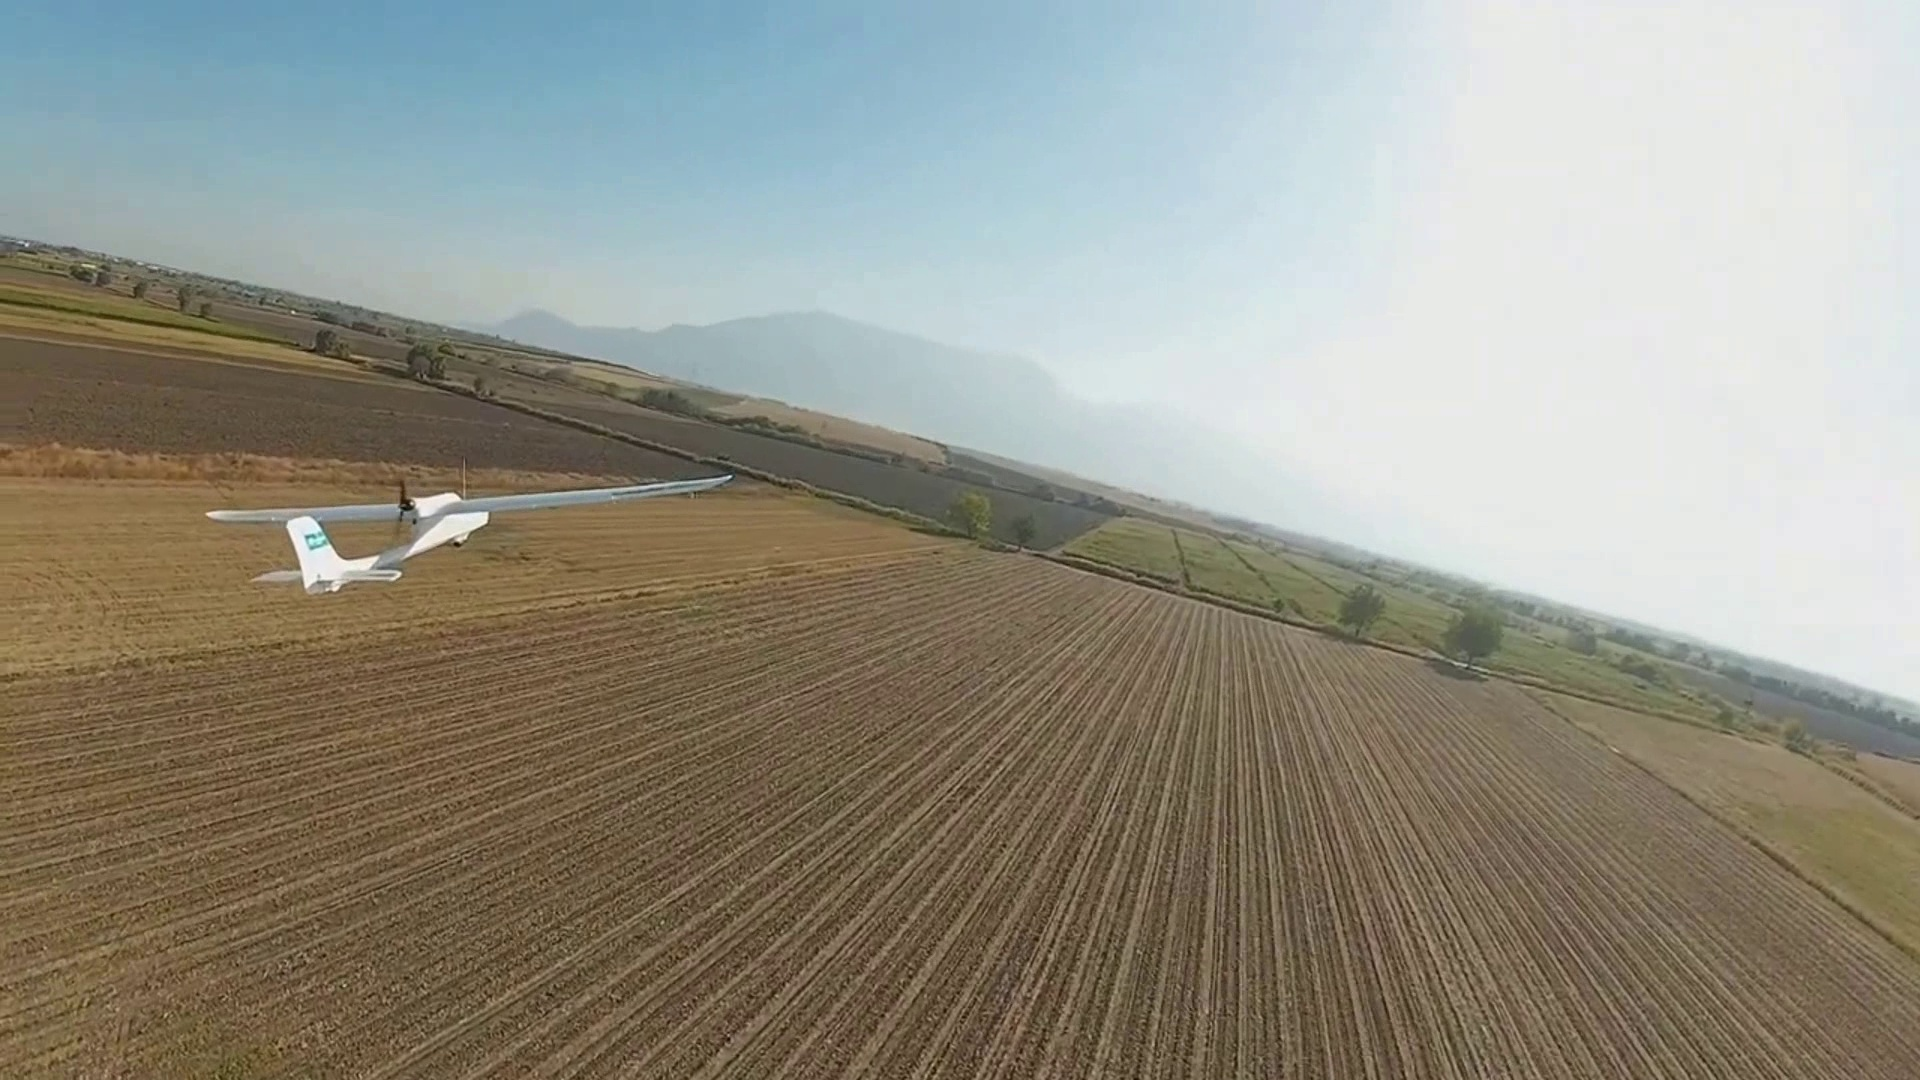airplane: (203, 469, 729, 593)
